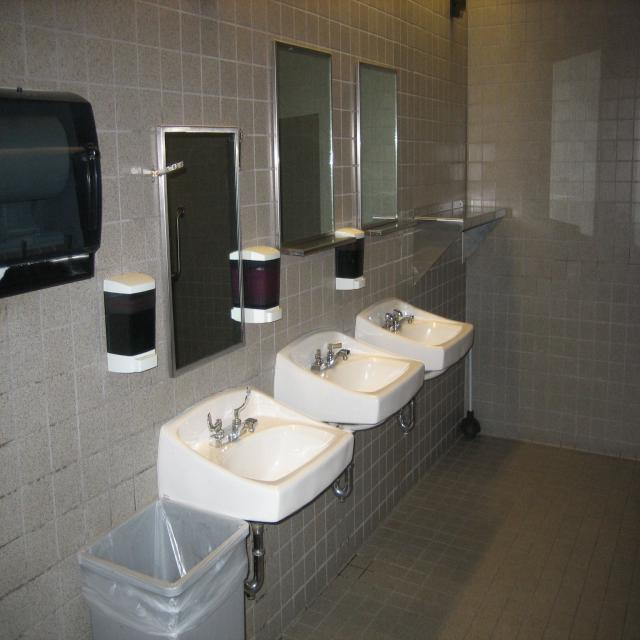mirror crop: (273, 40, 337, 252)
soap: (102, 269, 157, 371)
towel rack: (0, 86, 104, 299)
waste basket: (77, 495, 249, 636)
